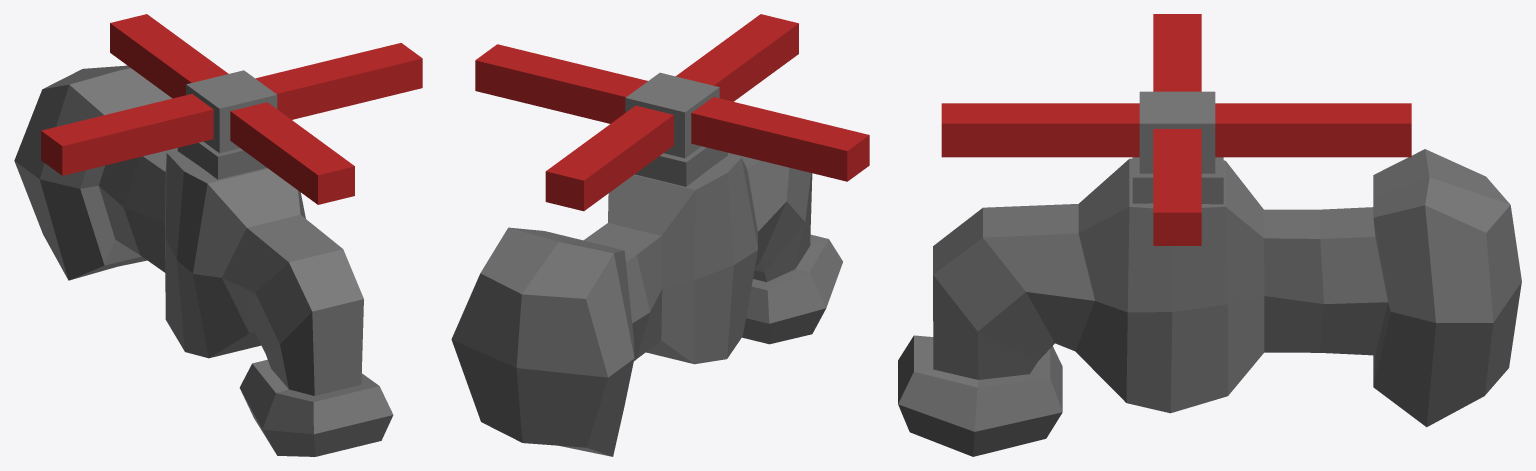
The model's file is Grifo_Agua.fbx.
The picture shows the model from 3 angles, left to right: view 1: azimuth 30°, elevation 25°; view 2: azimuth 150°, elevation 25°; view 3: azimuth 270°, elevation 25°; orthographic projection. The views are drawn at different scales.
Visible parts, largest first — view 1: Grifo_Cuerpo, Llaves_rojo, Llaves_rojo.001, Llaves_rojo.003, Llaves_rojo.002, Grifo_Cuerpo_2, Grifo_Cuerpo_2.001; view 2: Grifo_Cuerpo, Llaves_rojo, Llaves_rojo.001, Llaves_rojo.002, Llaves_rojo.003, Grifo_Cuerpo_2, Grifo_Cuerpo_2.001; view 3: Grifo_Cuerpo, Llaves_rojo.003, Llaves_rojo.002, Llaves_rojo.001, Grifo_Cuerpo_2, Llaves_rojo, Grifo_Cuerpo_2.001.
Boxes of the visible parts, <box> form: Grifo_Cuerpo: <box>14,65,393,456</box>; Llaves_rojo: <box>41,94,213,175</box>; Llaves_rojo.001: <box>255,43,422,119</box>; Llaves_rojo.003: <box>230,102,354,204</box>; Llaves_rojo.002: <box>110,14,228,98</box>; Grifo_Cuerpo_2: <box>186,70,277,153</box>; Grifo_Cuerpo_2.001: <box>177,141,266,179</box>; Grifo_Cuerpo: <box>451,152,842,456</box>; Llaves_rojo: <box>691,97,869,181</box>; Llaves_rojo.001: <box>475,44,647,123</box>; Llaves_rojo.002: <box>545,105,673,211</box>; Llaves_rojo.003: <box>676,14,798,101</box>; Grifo_Cuerpo_2: <box>625,72,719,158</box>; Grifo_Cuerpo_2.001: <box>635,146,727,186</box>; Grifo_Cuerpo: <box>898,149,1521,456</box>; Llaves_rojo.003: <box>941,103,1139,157</box>; Llaves_rojo.002: <box>1215,103,1411,157</box>; Llaves_rojo.001: <box>1153,129,1201,245</box>; Grifo_Cuerpo_2: <box>1139,91,1215,173</box>; Llaves_rojo: <box>1153,14,1201,91</box>; Grifo_Cuerpo_2.001: <box>1132,157,1223,204</box>.
Size of the model in its own units: 2968 by 2276 by 3941.
